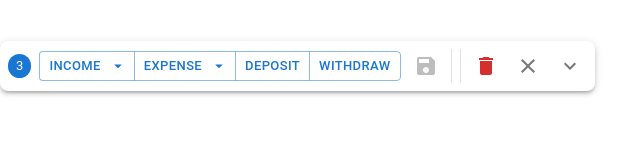
CompactActionBar › Disabled states › disables accept when hasUnallocatedSelected is true
# Expand to see accept button
Click the button with test id "expand-button" at [570, 66], box x1=553 y1=49 x2=587 y2=83
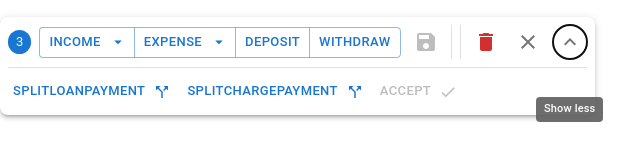
Result: the button "accept" is disabled at x1=375 y1=76 x2=460 y2=107
